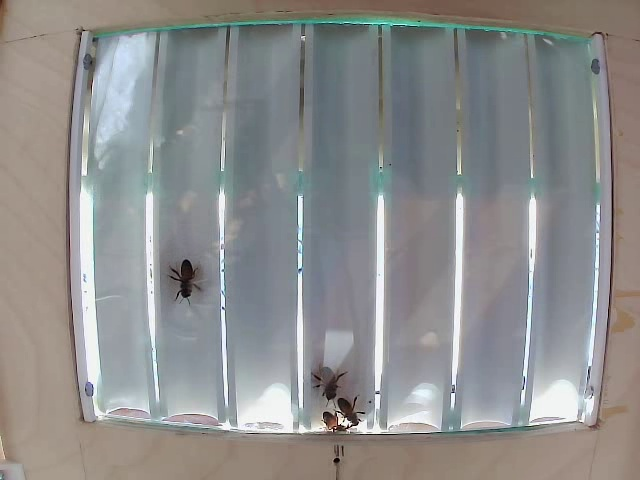bee: (168, 258, 204, 300), (313, 362, 345, 399)
